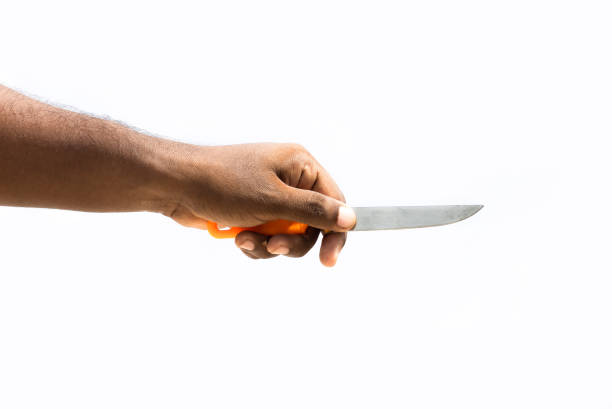knife: (206, 204, 484, 240)
